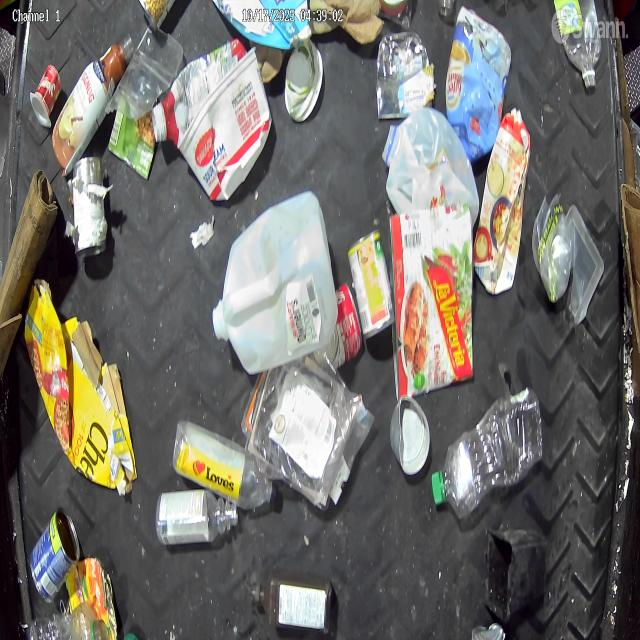can: (348, 229, 396, 345), (28, 505, 81, 606), (376, 31, 433, 120), (326, 280, 366, 374), (72, 155, 107, 260), (391, 395, 435, 478)
milk_jug: (213, 191, 336, 373), (386, 106, 481, 219)
non_white_jug: (474, 107, 532, 297)
plastic_bottle: (437, 388, 542, 518), (172, 420, 278, 511), (154, 488, 238, 546), (557, 1, 603, 88)
